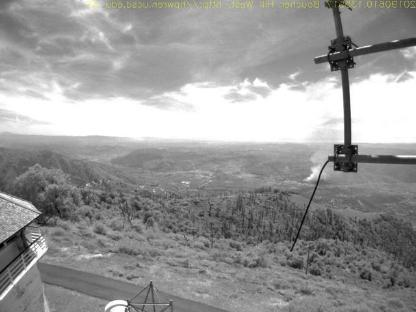smoke: (302, 126, 334, 184)
